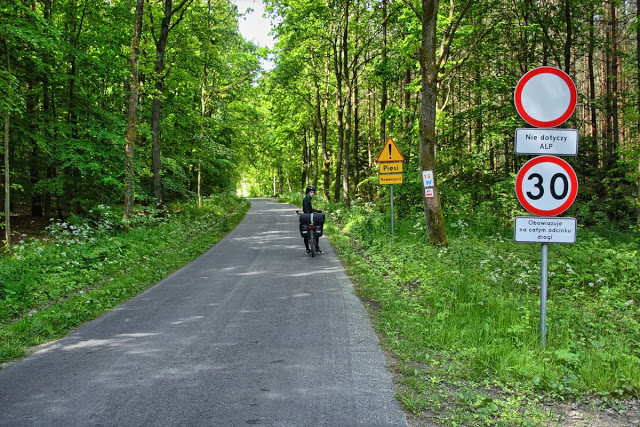no_entry_sign: (515, 67, 577, 127)
